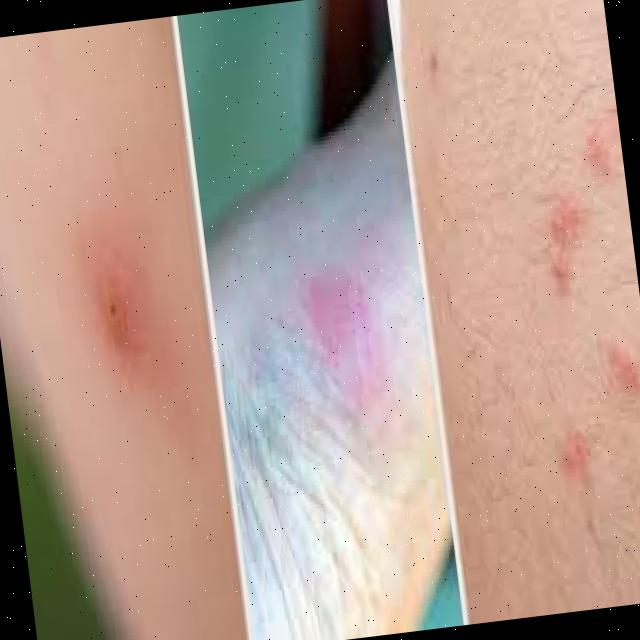kan emici bocekler: (300, 268, 399, 424)
